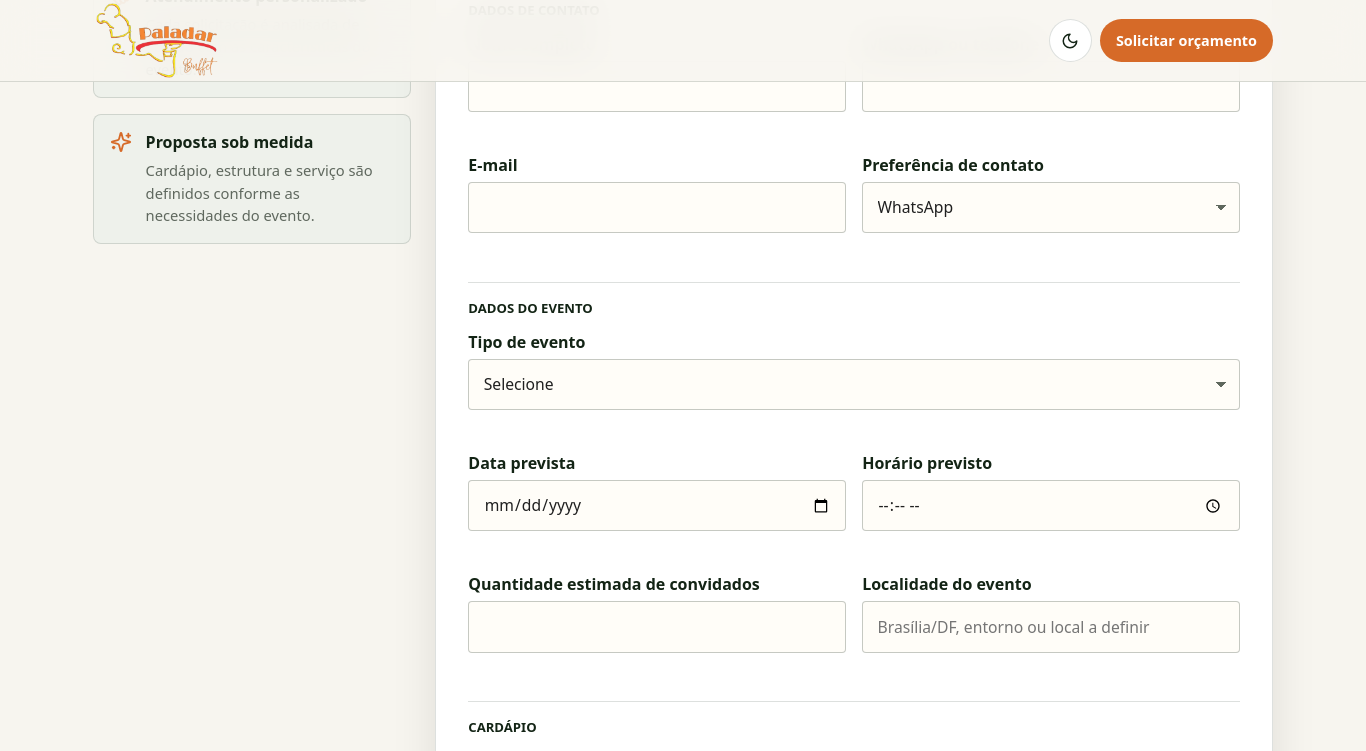
QuotePage › shows the custom event type field only for the Outro option
(page scrolled)
Expected: the field labelled "Outro tipo de evento" is not shown
Select "Casamento" in the dropdown labelled "Tipo de evento" at (854, 385), box top-left (468, 359), bottom-right (1240, 410)
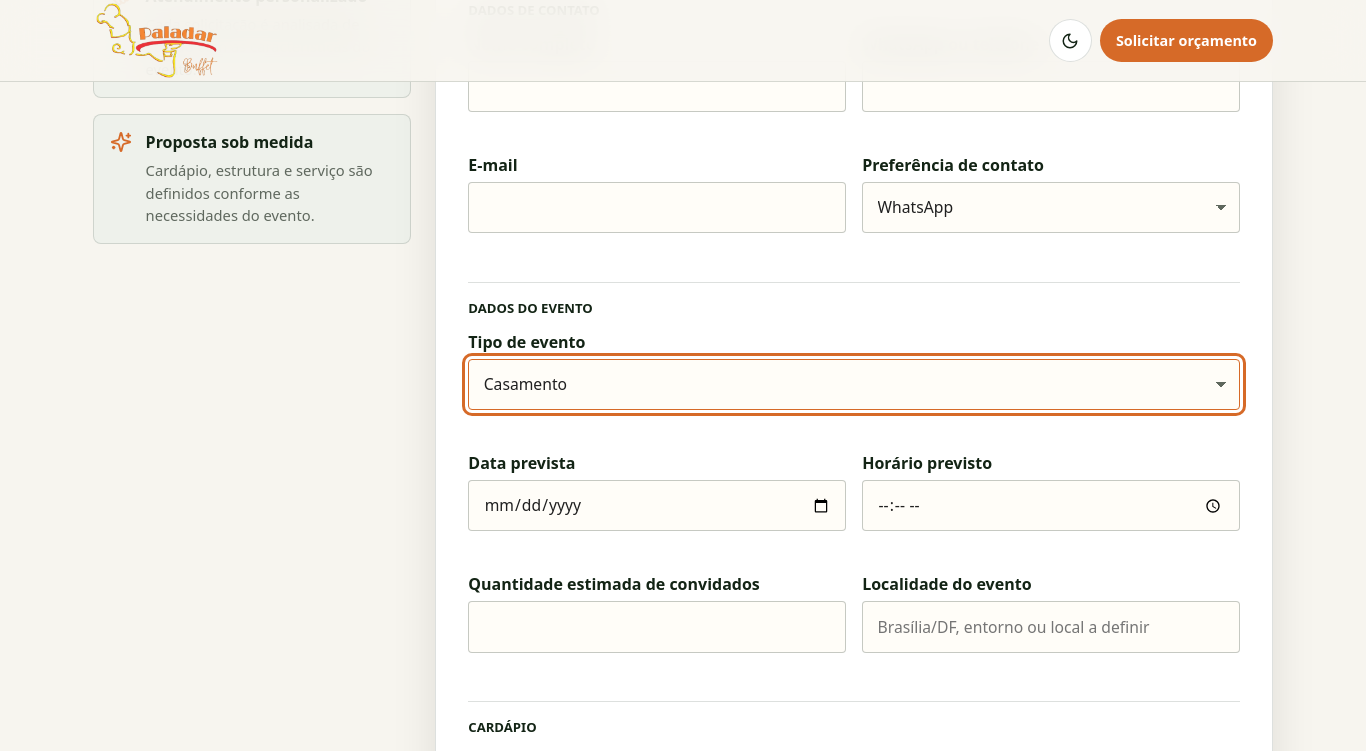
Expected: the field labelled "Outro tipo de evento" is not shown
Select "Outro" in the dropdown labelled "Tipo de evento" at (854, 385), box top-left (468, 359), bottom-right (1240, 410)
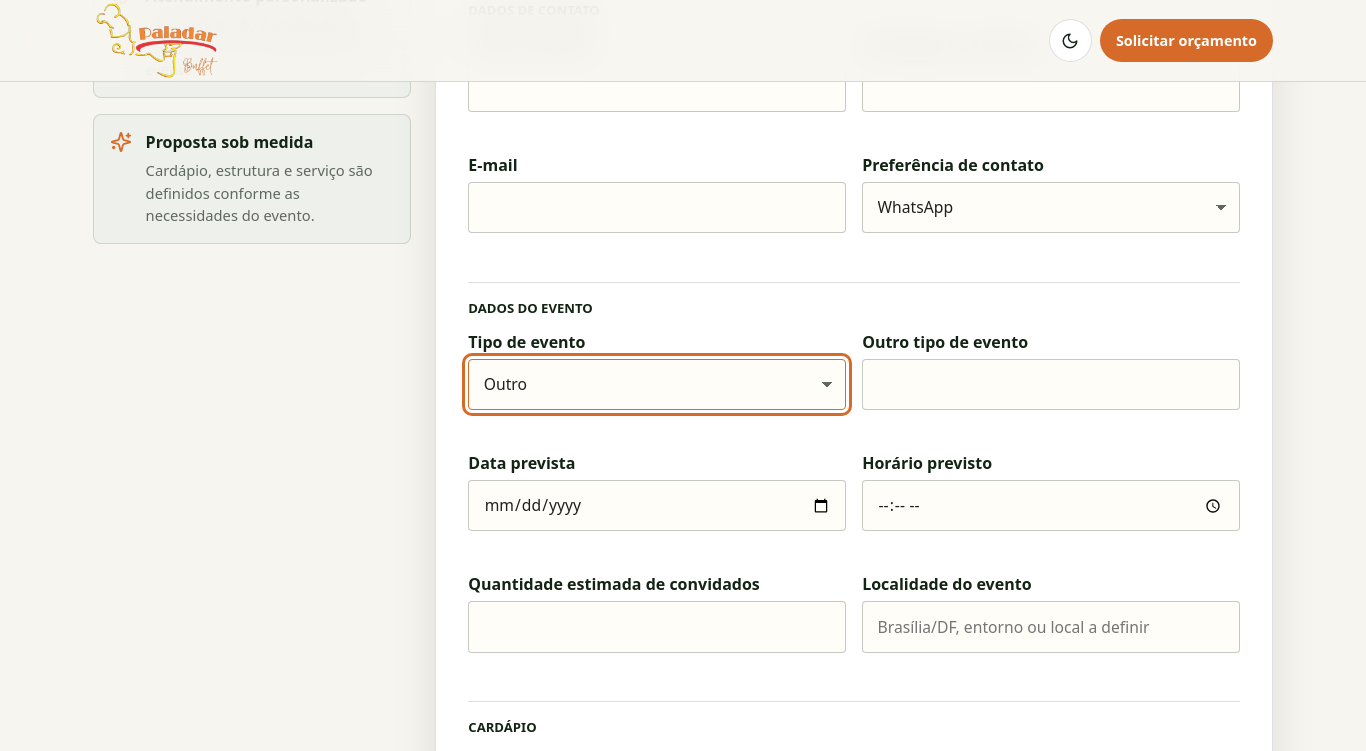
Expected: the field labelled "Outro tipo de evento" is shown
Type "Evento personalizado" into the field labelled "Outro tipo de evento" at (1051, 385), box top-left (862, 359), bottom-right (1240, 410)
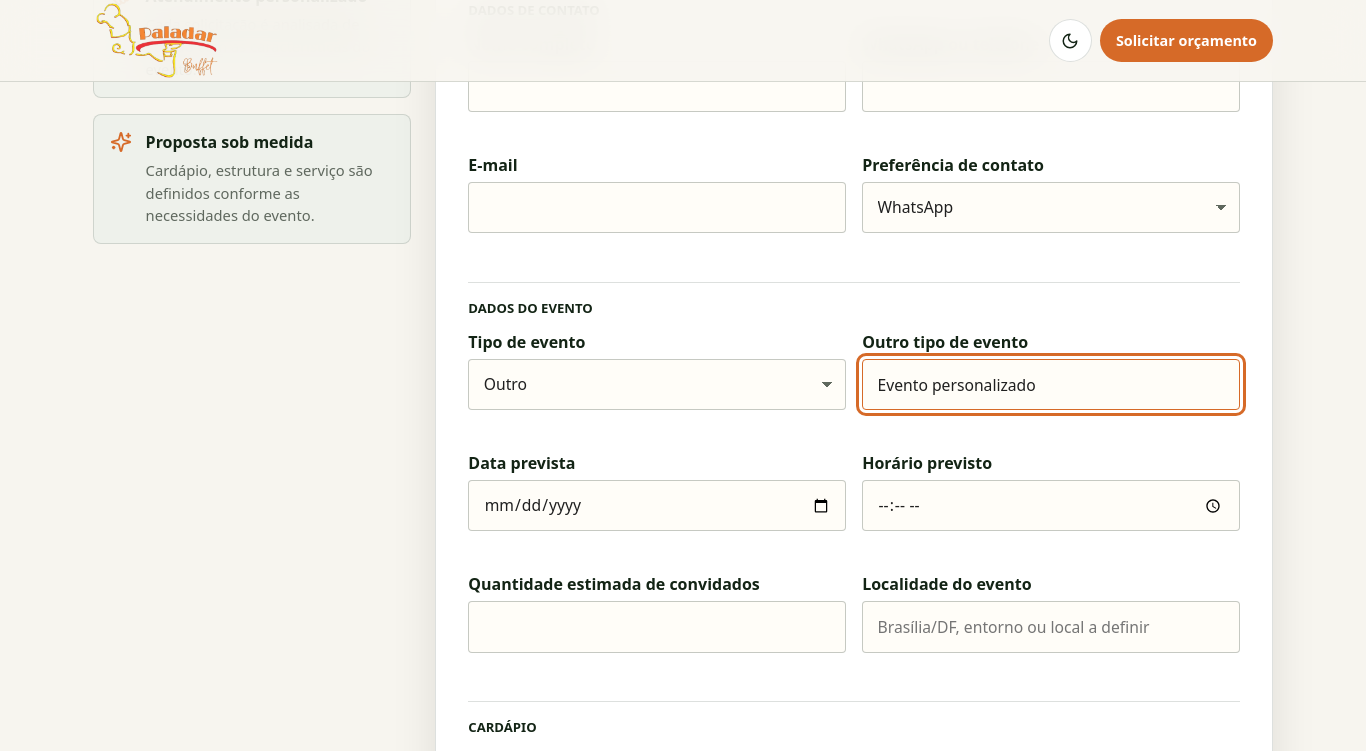
Select "Brunch" in the dropdown labelled "Tipo de evento" at (657, 385), box top-left (468, 359), bottom-right (846, 410)
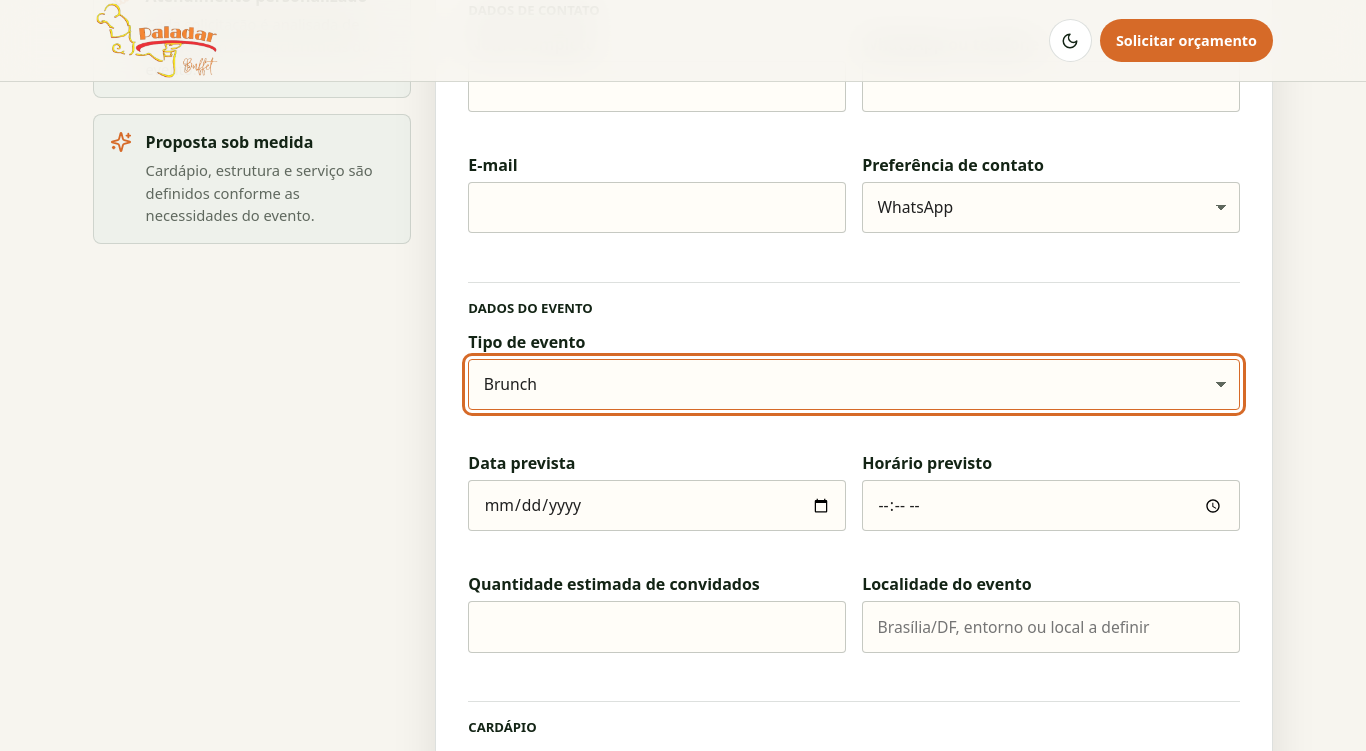
Expected: the label labelled "Outro tipo de evento" is gone
